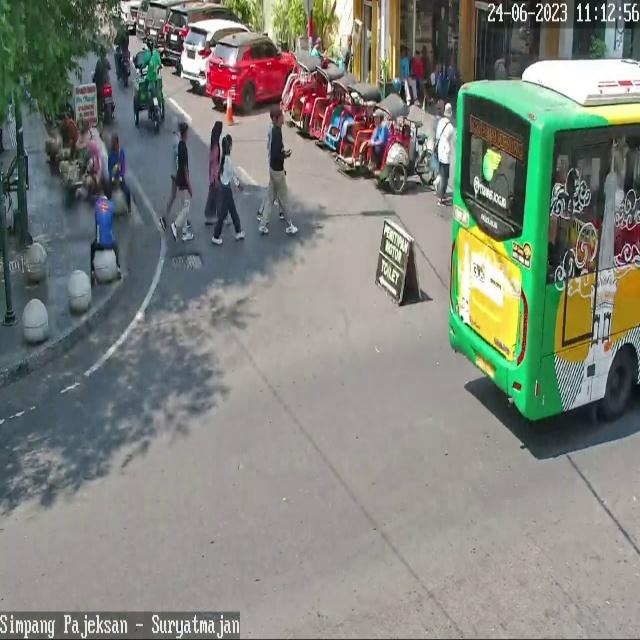bus: (98, 80, 116, 125), (117, 48, 133, 88)
car: (447, 59, 640, 421)
motorcycle: (206, 33, 300, 111), (163, 4, 246, 64), (181, 21, 252, 87), (143, 0, 169, 53)
